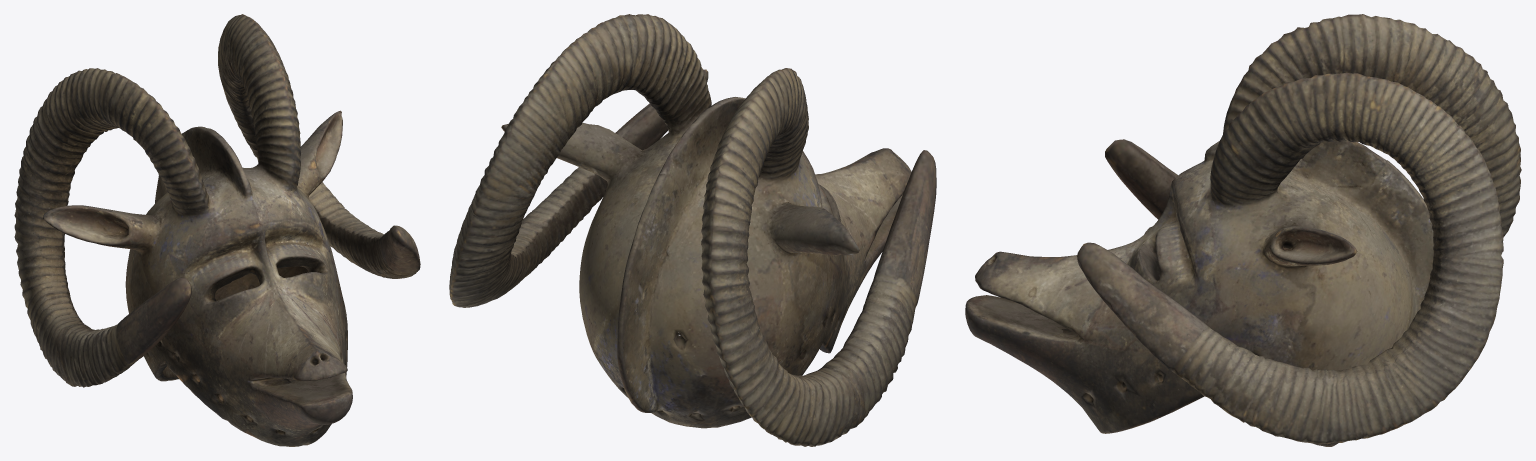
The model's file is gnom.glb.
3 renders of one model, left to right at view 1: azimuth 30°, elevation 25°; view 2: azimuth 150°, elevation 25°; view 3: azimuth 270°, elevation 25°, orthographic. The views are drawn at different scales.
Parts seen in each view (by area): view 1: Object_2; view 2: Object_2; view 3: Object_2.
Boxes of the visible parts, x1,y1,x2,y2 form: Object_2: [14, 14, 420, 446]; Object_2: [449, 14, 936, 446]; Object_2: [965, 14, 1521, 446].
Size of the model in its own units: 0.3779 by 0.3646 by 0.4702.
Materials: 1 (1 with a texture image).
